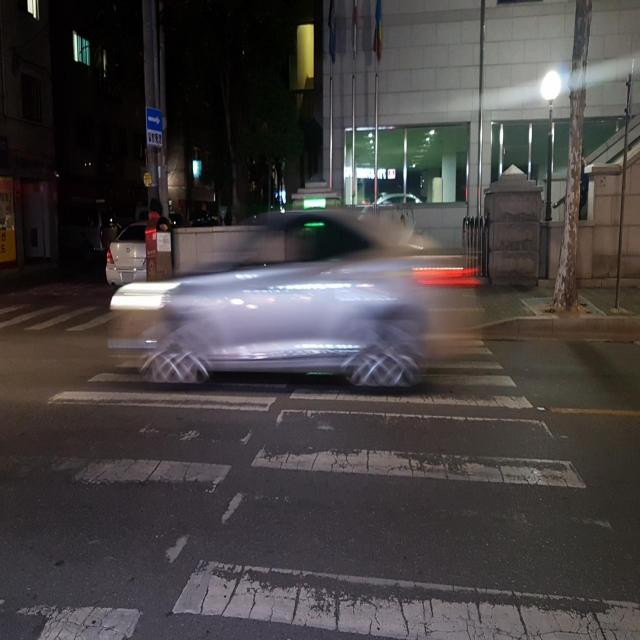횡단보도: (0, 340, 640, 640), (0, 300, 110, 335)
